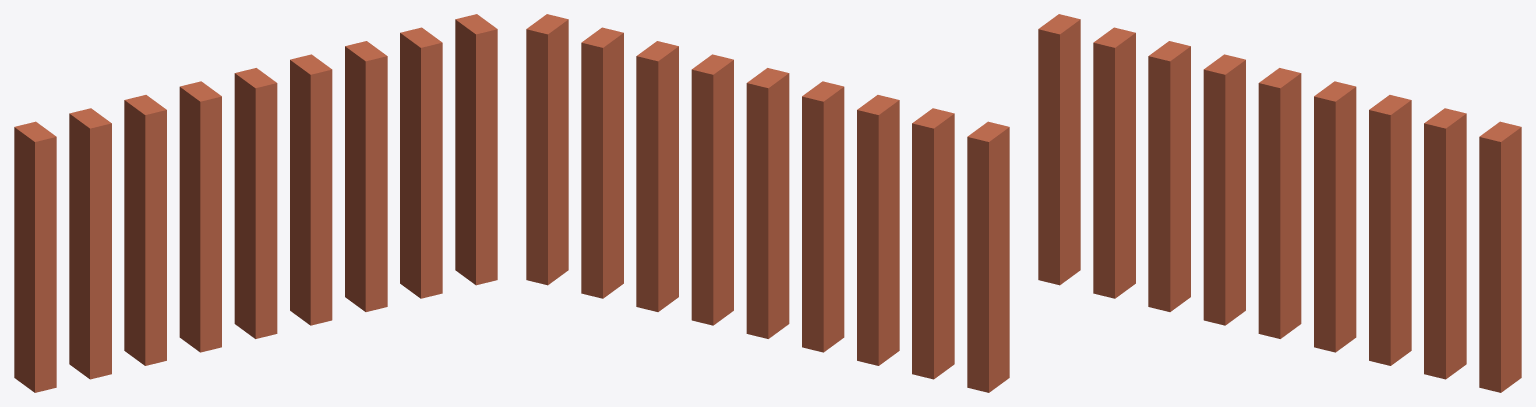
Rendered from Partitions_029.glb.
3 renders of one model, left to right at view 1: azimuth 30°, elevation 25°; view 2: azimuth 150°, elevation 25°; view 3: azimuth 330°, elevation 25°, orthographic.
Parts seen in each view (by area): view 1: Partitions_029; view 2: Partitions_029; view 3: Partitions_029.
Part boxes in pixels (x1=…): Partitions_029: x1=14, y1=14, x2=497, y2=392; Partitions_029: x1=526, y1=14, x2=1009, y2=392; Partitions_029: x1=1038, y1=14, x2=1521, y2=392.
Size of the model in its own units: 1.93 by 1 by 0.15.
Materials: 1 (1 with a texture image).
